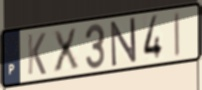3: (84, 22, 106, 71)
4: (141, 12, 165, 63)
I: (173, 10, 181, 59)
K: (26, 31, 48, 77)
N: (109, 16, 138, 70)
X: (50, 26, 81, 75)
